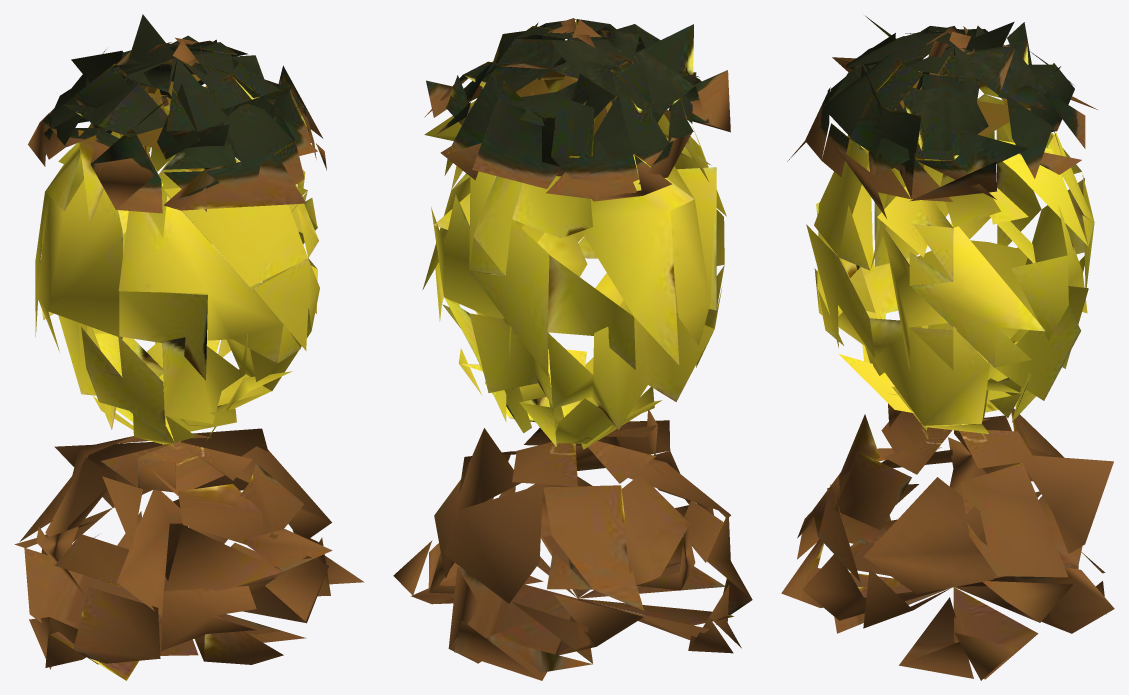
Rendered from keepsake-acorn-lamp.lod1.glb.
3 views of the same model, side by side, from view 1: azimuth 30°, elevation 25°; view 2: azimuth 150°, elevation 25°; view 3: azimuth 270°, elevation 25° (orthographic). The views are drawn at different scales.
Visible parts, largest first — view 1: keepsake-acorn-lamp_lod1; view 2: keepsake-acorn-lamp_lod1; view 3: keepsake-acorn-lamp_lod1.
Part boxes in pixels (x1,y1,x2,y2): keepsake-acorn-lamp_lod1: (14,14,364,680); keepsake-acorn-lamp_lod1: (393,18,752,680); keepsake-acorn-lamp_lod1: (781,16,1114,680).
Size of the model in its own units: 0.3946 by 0.7328 by 0.3745.
1 material, 1 textured.
